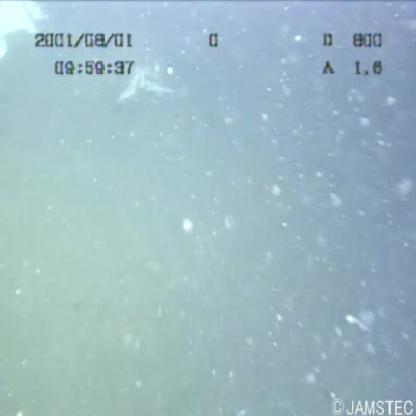Rác: (1, 1, 51, 67), (110, 57, 178, 105)
